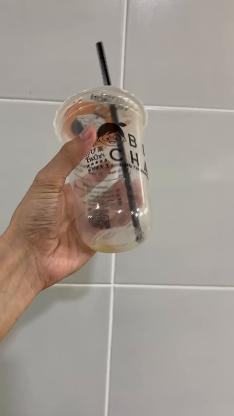Plastic Cup: (50, 80, 152, 248)
